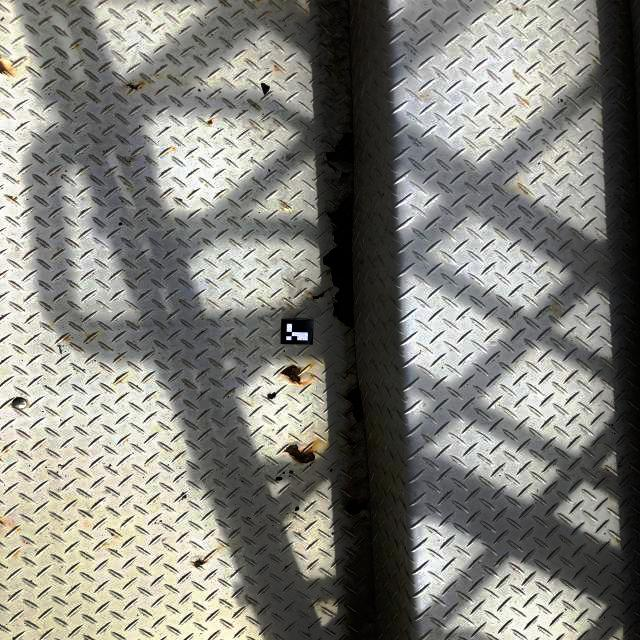Corrosion: (323, 193, 354, 328), (326, 131, 354, 163), (346, 384, 364, 423), (285, 443, 316, 463), (343, 498, 368, 515), (280, 365, 301, 384), (280, 365, 302, 383), (311, 290, 328, 300), (327, 161, 338, 172), (192, 559, 206, 567), (0, 60, 8, 74), (339, 172, 351, 179), (126, 83, 138, 90), (347, 439, 358, 446), (365, 618, 375, 624), (361, 516, 366, 521)
